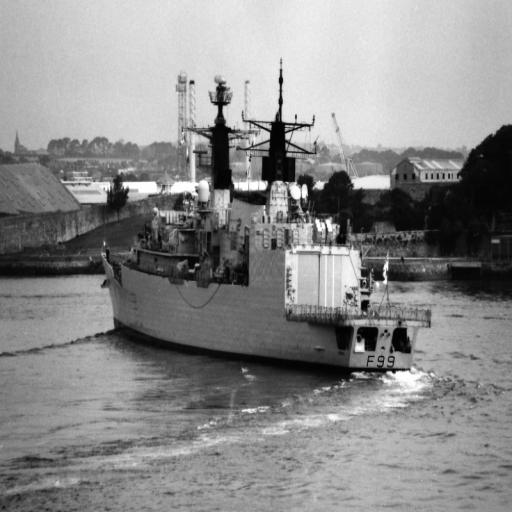Fragata: (100, 49, 434, 373)
